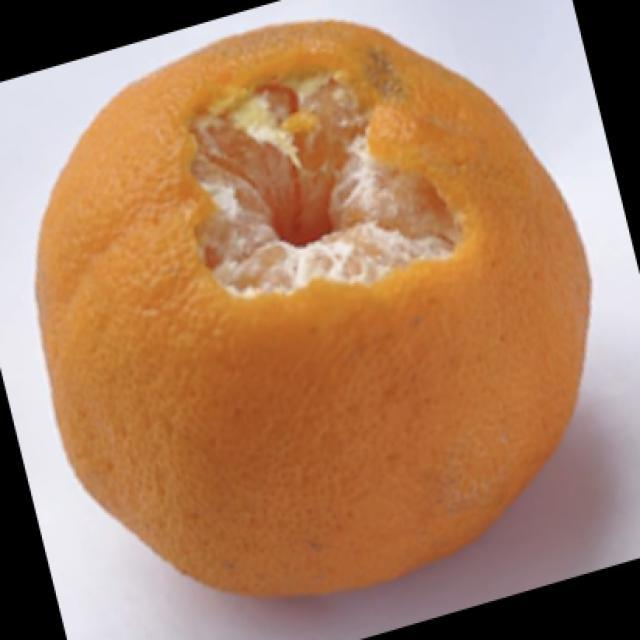matang: (37, 22, 590, 595), (195, 73, 453, 293)
